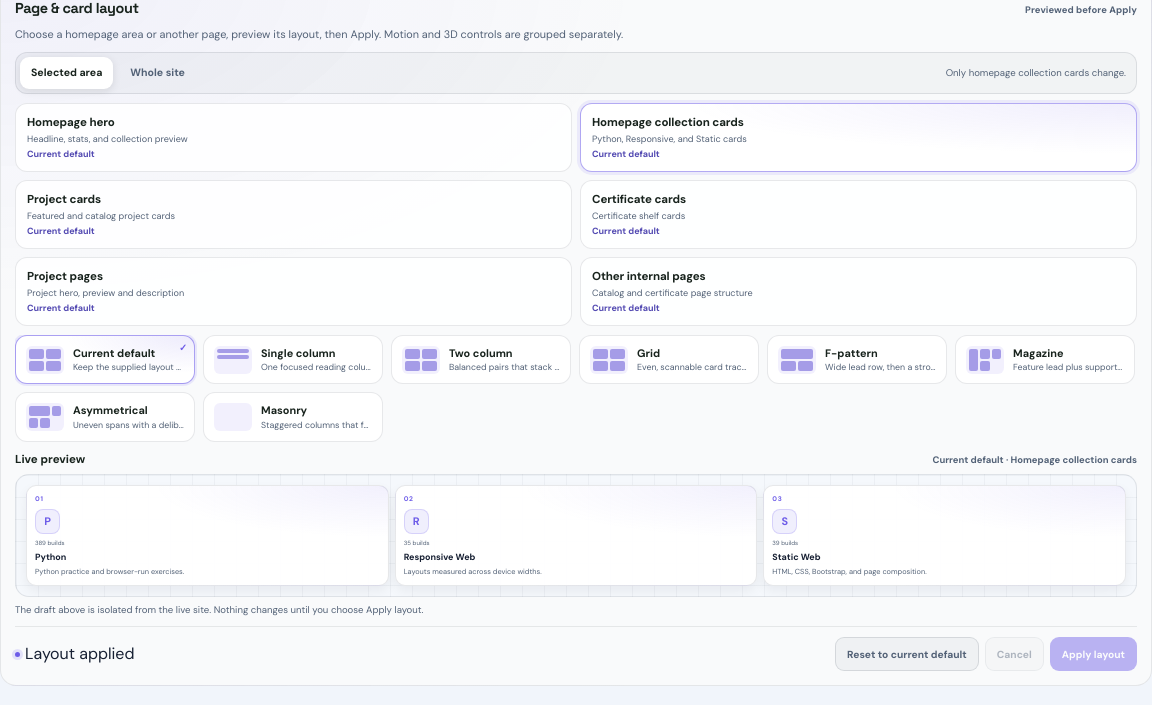
Test: LayoutStudio › previews a pattern without applying it
Check: the element with class "layout-preview" is shown, box [26,485,1126,586]
Click the button "Two column Balanced pairs that stack on small screens.": (481, 360) [391,335,571,384]
(page scrolled)
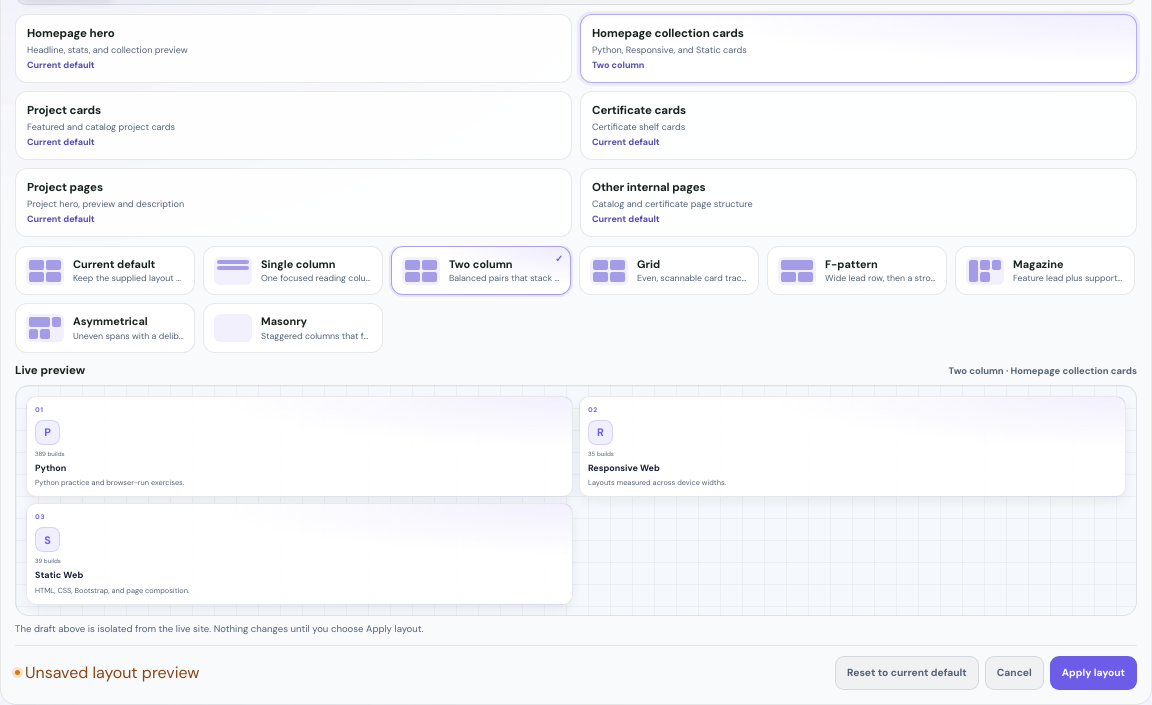
Check: the element with class "layout-preview" is shown, box [26,396,1126,605]
Check: the button "Apply layout" is enabled, box [1050,656,1137,690]
